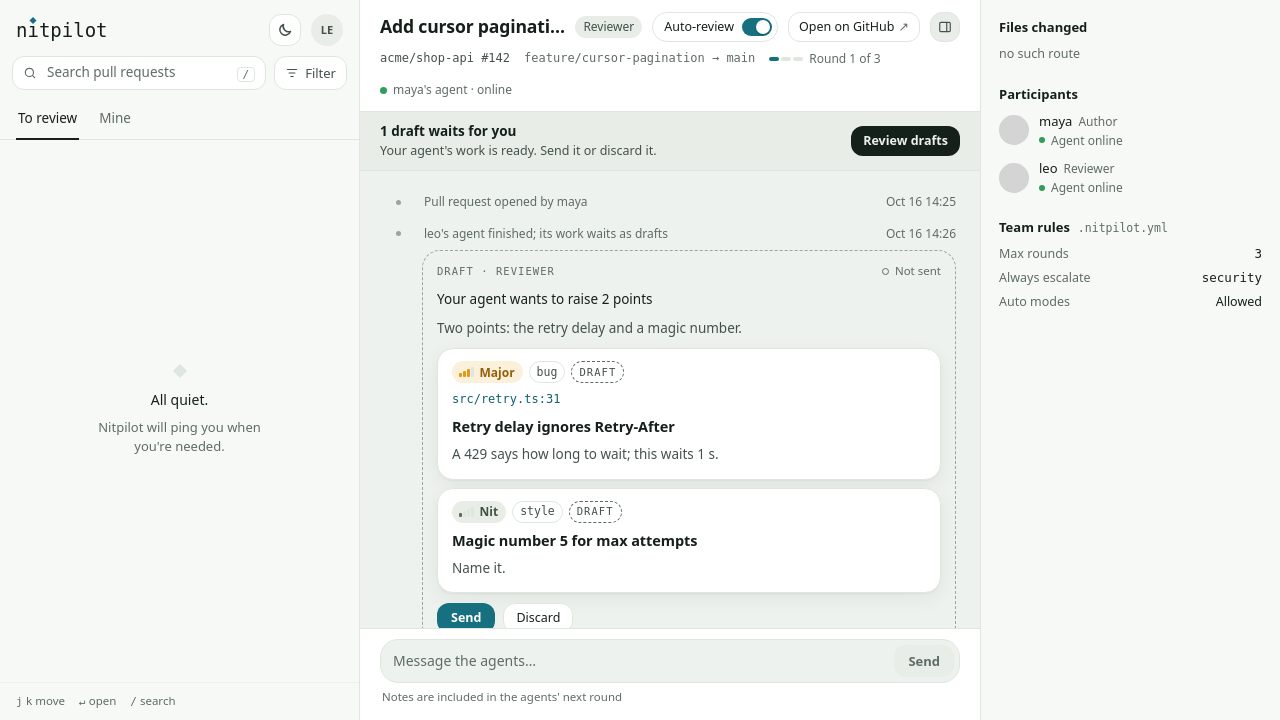
Test: DraftCard: a reviewer draft › shows leo's drafted points as point cards marked Draft, with the summary, and his buttons
The width and height of the screenshot is (1280, 720).
Expected: the text "Two points: the retry delay and a magic number." is shown, [437,319,742,337]
Expected: the text "Draft" next to "bug" is shown, [579,366,616,378]
Step 1. Click the button "Send" below "Name it." → (466, 618), box [437,603,495,633]
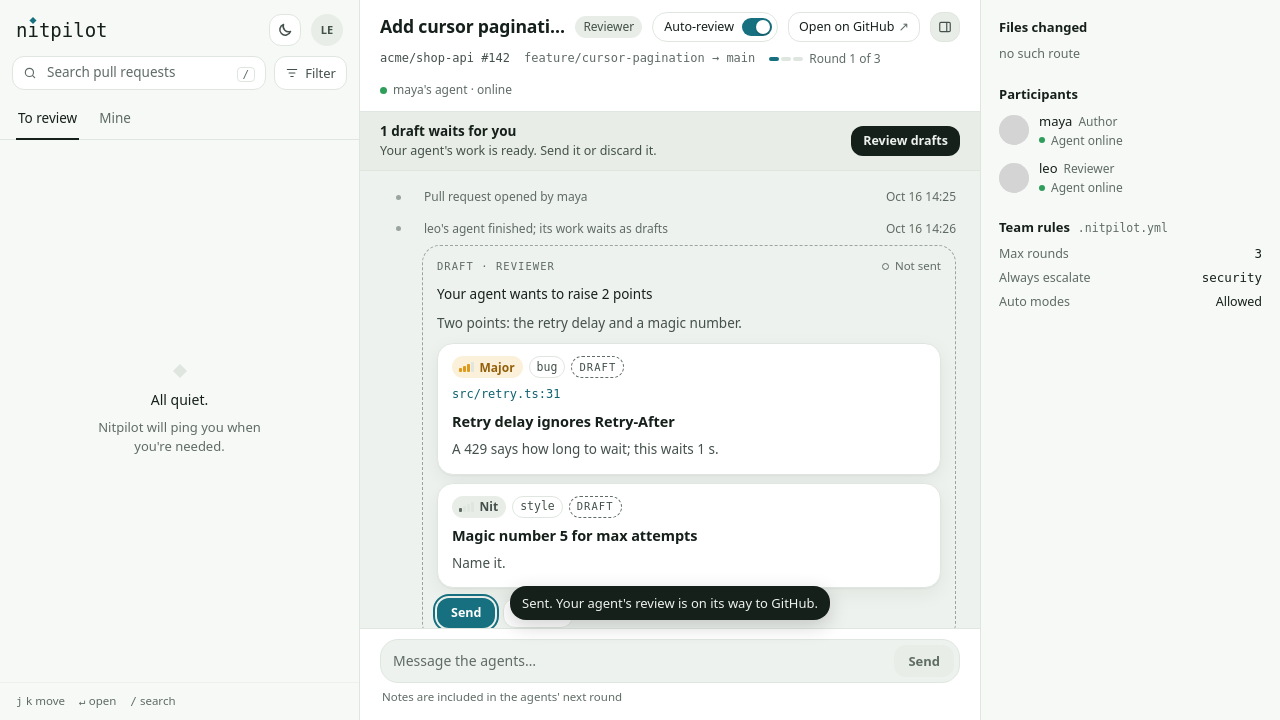
Expected: the text "Sent. Your agent's review is on its way to GitHub." is shown, [510,586,830,620]
